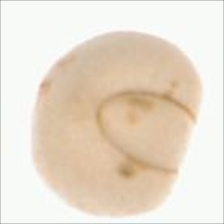L5: (96, 87, 198, 178), (29, 50, 70, 138)
L6: (27, 29, 203, 217)
